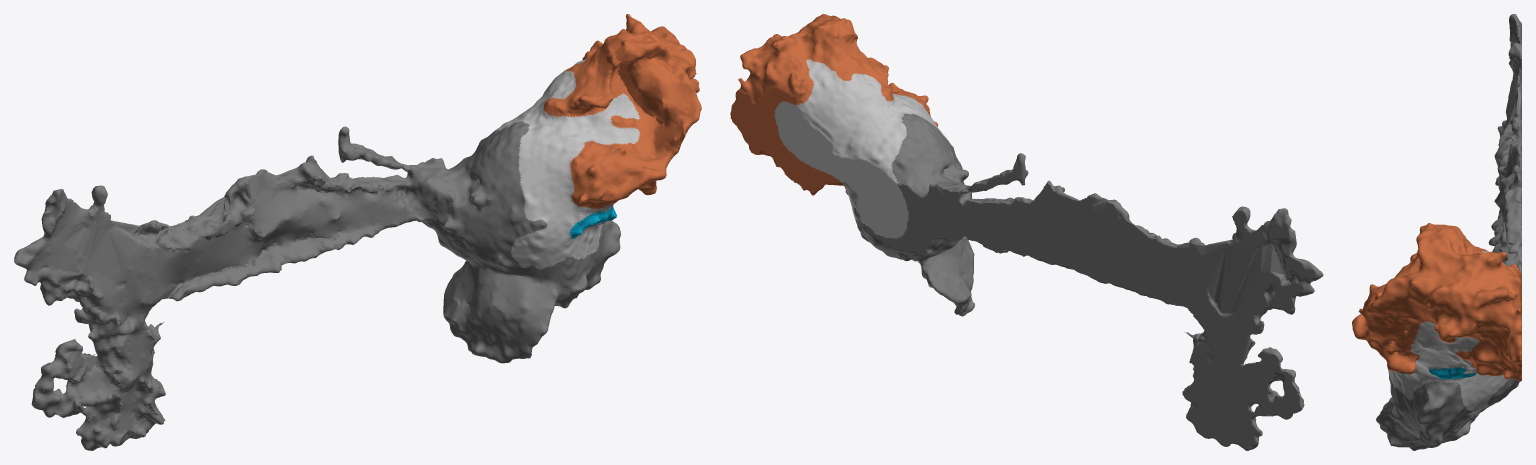
3 renders of one model, left to right at view 1: azimuth 30°, elevation 25°; view 2: azimuth 150°, elevation 25°; view 3: azimuth 270°, elevation 25°, orthographic. The views are drawn at different scales.
Bounding box in the file's own units: 342 × 163 × 76.11.
